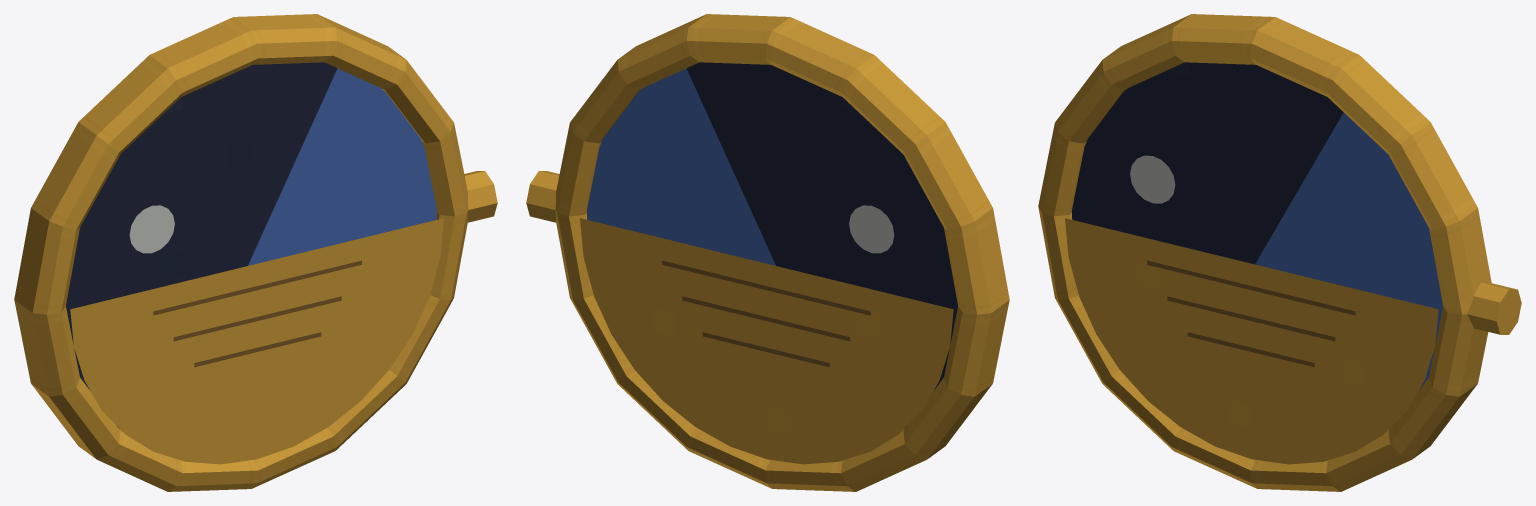
Rendered from clock_21.obj.
The picture shows the model from 3 angles, left to right: view 1: azimuth 30°, elevation 25°; view 2: azimuth 150°, elevation 25°; view 3: azimuth 330°, elevation 25°; orthographic projection.
Bounding box in the file's own units: 0.6363 × 0.6037 × 0.075.
